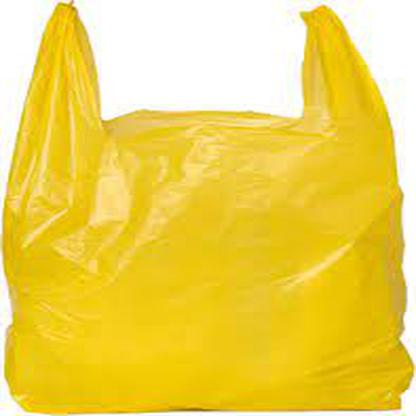plastic bag: (6, 1, 416, 413)
